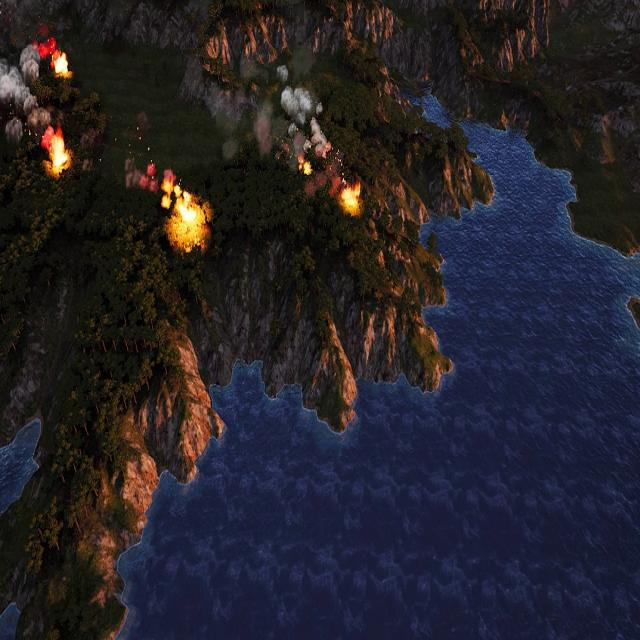fire: (170, 187, 206, 246), (44, 130, 68, 174), (342, 186, 361, 212), (162, 173, 176, 208), (54, 51, 71, 78), (300, 159, 312, 177)
smoke: (264, 64, 328, 159), (0, 37, 51, 144), (126, 160, 176, 198)
